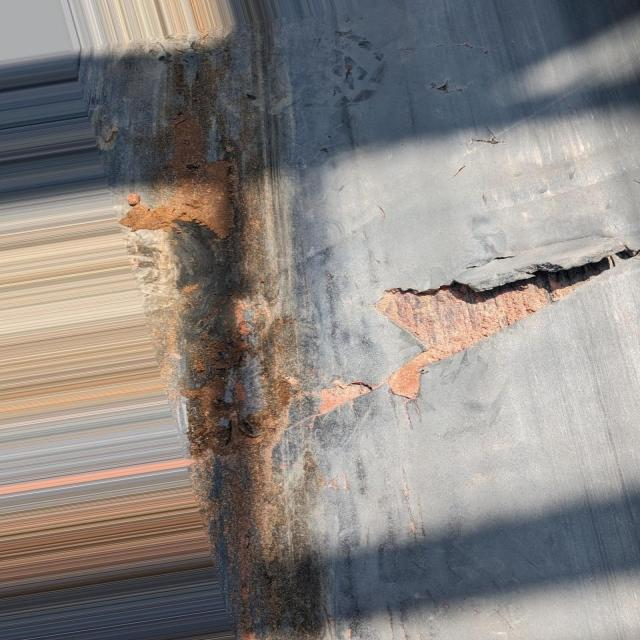Tear: (307, 238, 638, 423), (466, 125, 513, 147), (424, 76, 476, 95), (434, 41, 494, 54), (451, 163, 468, 181), (376, 204, 387, 220)
